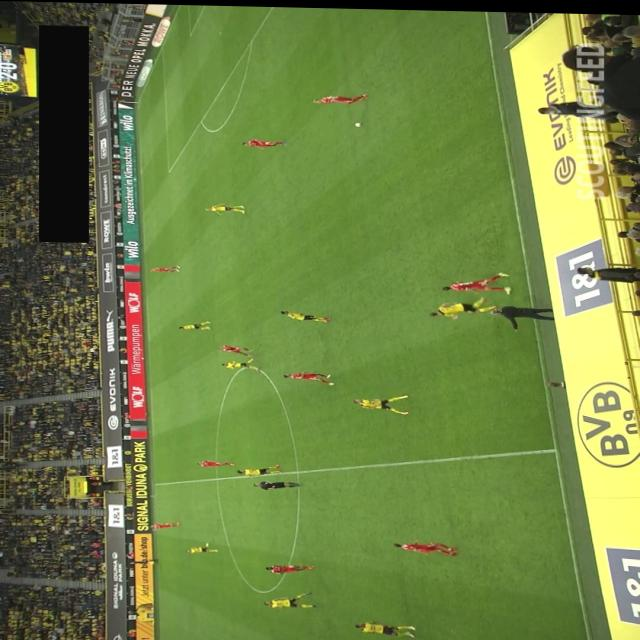player: (428, 292, 498, 317), (442, 267, 512, 291), (354, 391, 411, 413), (263, 589, 317, 608), (392, 537, 456, 553), (354, 619, 416, 635), (283, 368, 335, 383), (237, 461, 281, 476), (313, 90, 368, 102), (280, 308, 330, 321), (221, 354, 261, 370), (265, 562, 315, 573), (204, 201, 246, 214), (242, 137, 286, 148), (217, 343, 255, 354), (186, 541, 220, 552), (178, 318, 212, 329), (197, 458, 234, 467), (150, 520, 180, 529), (150, 263, 180, 271)
referee: (253, 478, 303, 489), (130, 555, 160, 564)
